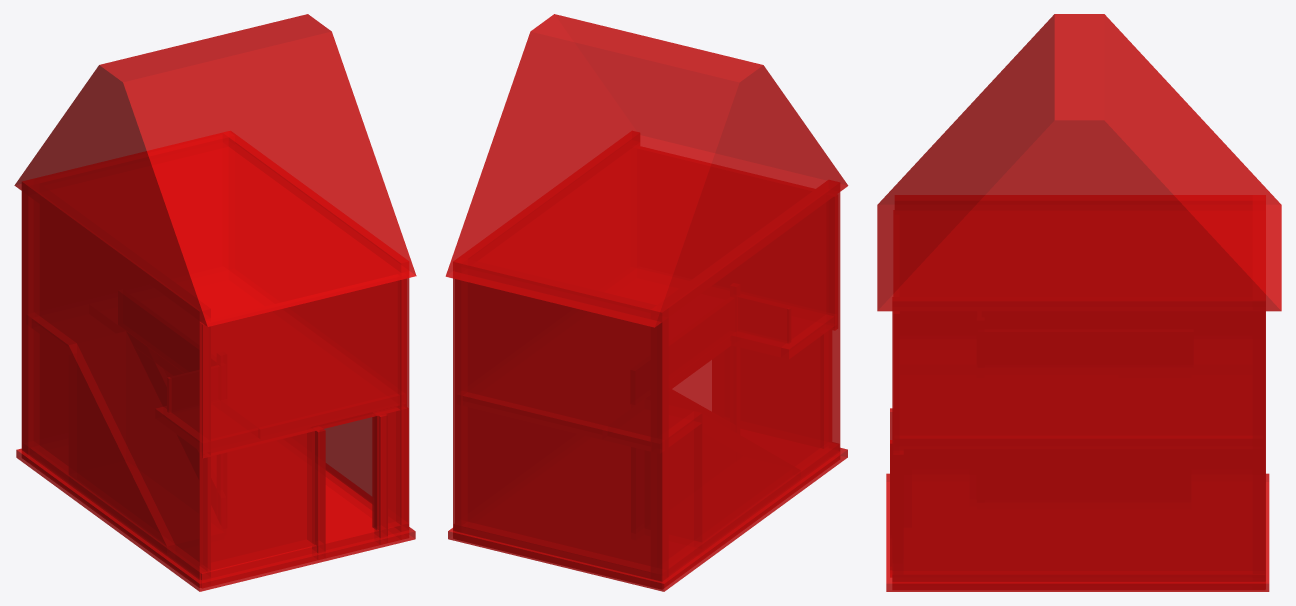
The model's file is SM_Bld_City_Preset_04_Collision.fbx.
3 renders of one model, left to right at view 1: azimuth 30°, elevation 25°; view 2: azimuth 150°, elevation 25°; view 3: azimuth 270°, elevation 25°, orthographic. The views are drawn at different scales.
Parts seen in each view (by area): view 1: SM_Bld_City_Preset_04_Collision; view 2: SM_Bld_City_Preset_04_Collision; view 3: SM_Bld_City_Preset_04_Collision.
Part boxes in pixels (left/top/right/bottom): SM_Bld_City_Preset_04_Collision: left=14, top=14, right=416, bottom=591; SM_Bld_City_Preset_04_Collision: left=445, top=14, right=848, bottom=591; SM_Bld_City_Preset_04_Collision: left=877, top=14, right=1281, bottom=591.
Size of the model in its own units: 526 by 1048 by 817.
